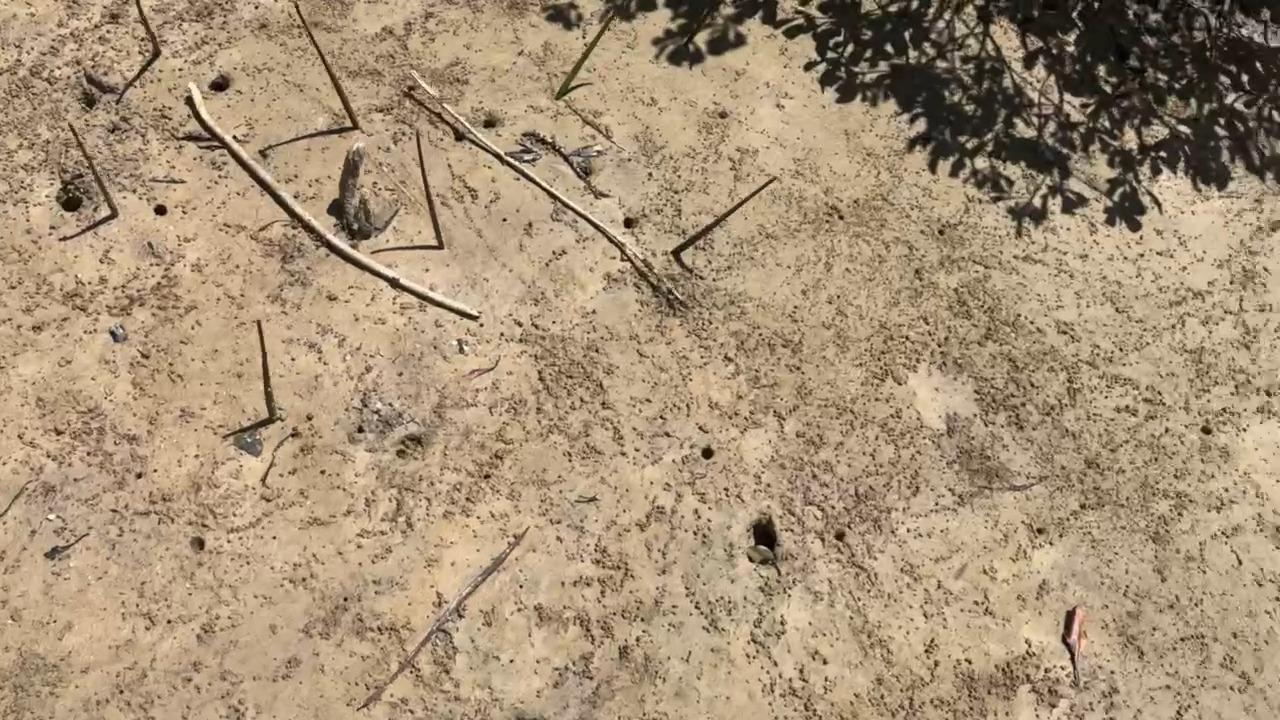Tree: (672, 175, 777, 257), (294, 2, 359, 129), (554, 13, 616, 100), (67, 120, 121, 217), (416, 128, 444, 250), (257, 319, 278, 421), (135, 0, 162, 53)
